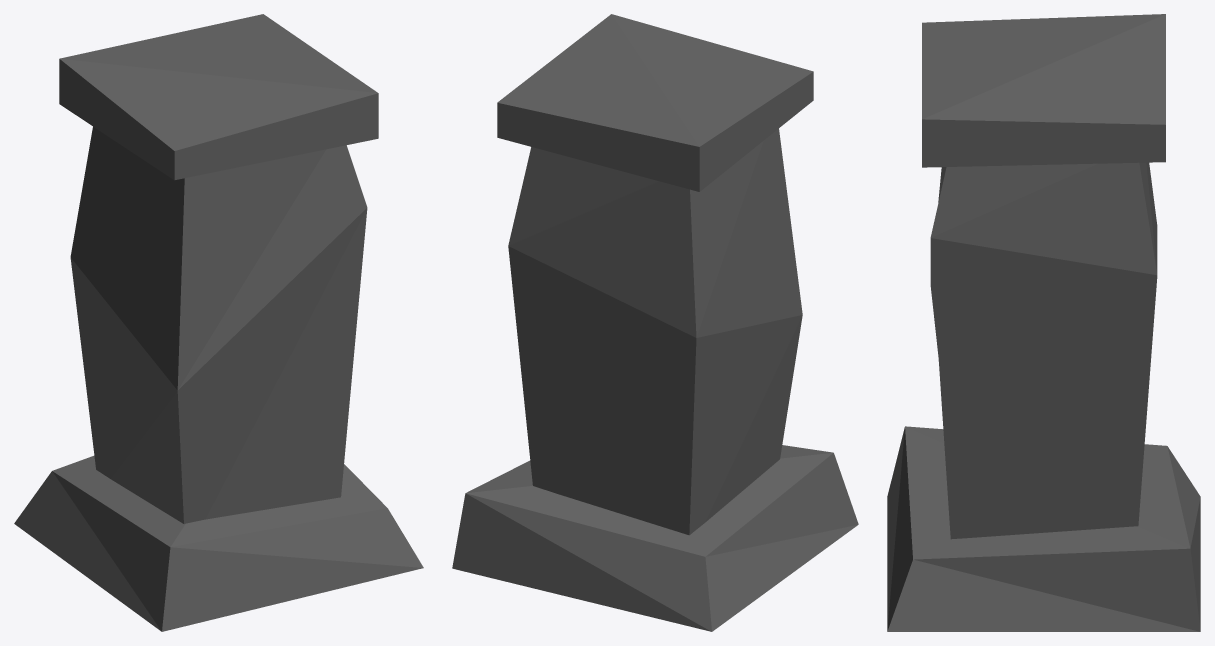
Rendered from Stone_Rail_01.FBX.
3 views of the same model, side by side, from view 1: azimuth 30°, elevation 25°; view 2: azimuth 150°, elevation 25°; view 3: azimuth 270°, elevation 25° (orthographic). The views are drawn at different scales.
Parts seen in each view (by area): view 1: Stone_Rail_01; view 2: Stone_Rail_01; view 3: Stone_Rail_01.
Part boxes in pixels (box(x1,y1,x2,y2)): Stone_Rail_01: box(14, 14, 423, 631); Stone_Rail_01: box(452, 14, 858, 631); Stone_Rail_01: box(887, 14, 1200, 631).
Bounding box in the file's own units: 1.07 × 1.83 × 1.04.
